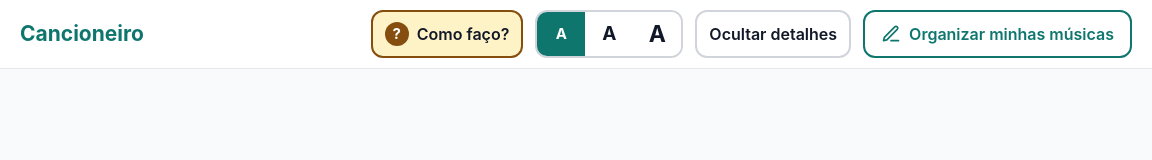
TopBar (V15) — o topo da tela › o botão de detalhes diz o que vai fazer, e alterna o painel
Click the button with test id "toggle-detalhes" at (773, 34), box [695,10,851,58]
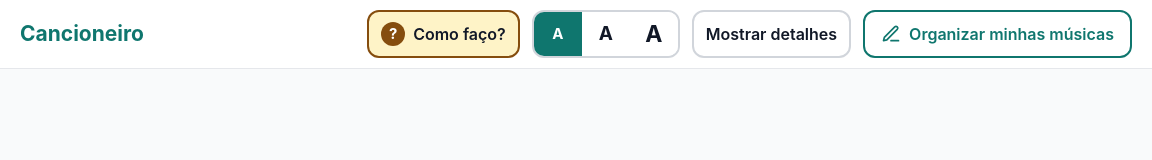
expect the button with test id "toggle-detalhes" reads "Mostrar detalhes": met, box [692,10,851,58]
